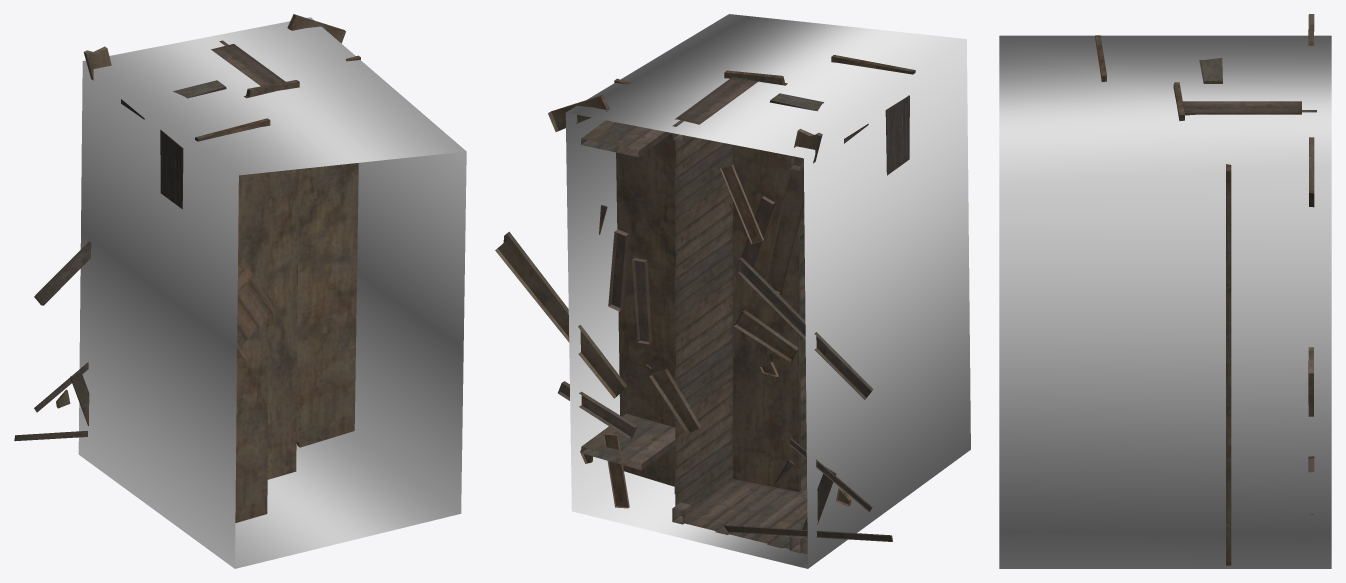
File: hd_env052_TradeShelves_04.glb
3 views of the same model, side by side, from view 1: azimuth 30°, elevation 25°; view 2: azimuth 150°, elevation 25°; view 3: azimuth 270°, elevation 25° (orthographic). The views are drawn at different scales.
Parts seen in each view (by area): view 1: set_0_group_1, set_0_group_2, set_0_group_0; view 2: set_0_group_1, set_0_group_2, set_0_group_0; view 3: set_0_group_1, set_0_group_2, set_0_group_0.
Part boxes in pixels (bbox=[...]): set_0_group_1: bbox=[78, 17, 466, 568]; set_0_group_2: bbox=[121, 40, 360, 522]; set_0_group_0: bbox=[14, 14, 345, 441]; set_0_group_1: bbox=[565, 14, 970, 568]; set_0_group_2: bbox=[581, 55, 915, 554]; set_0_group_0: bbox=[495, 94, 892, 541]; set_0_group_1: bbox=[999, 35, 1331, 568]; set_0_group_2: bbox=[1095, 35, 1316, 565]; set_0_group_0: bbox=[1308, 14, 1314, 514].
Size of the model in its own units: 2.99 by 3.13 by 2.12.
3 materials, 2 textured.
